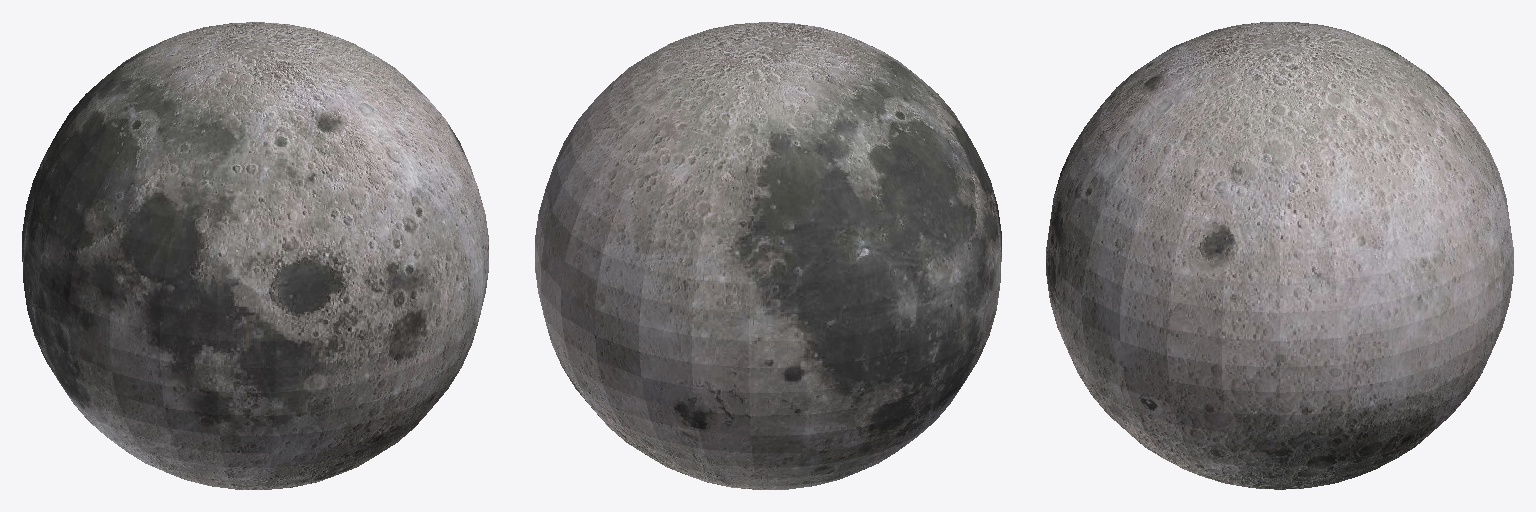
The picture shows the model from 3 angles: view 1: azimuth 30°, elevation 25°; view 2: azimuth 150°, elevation 25°; view 3: azimuth 270°, elevation 25°; orthographic projection.
Parts seen in each view (by area): view 1: moon; view 2: moon; view 3: moon.
Part boxes in pixels (x1,y1,x2,y2): moon: (22, 22, 488, 489); moon: (535, 22, 1001, 489); moon: (1046, 22, 1513, 489).
Bounding box in the file's own units: 38.71 × 38.94 × 38.78.
1 materials, 1 textured.